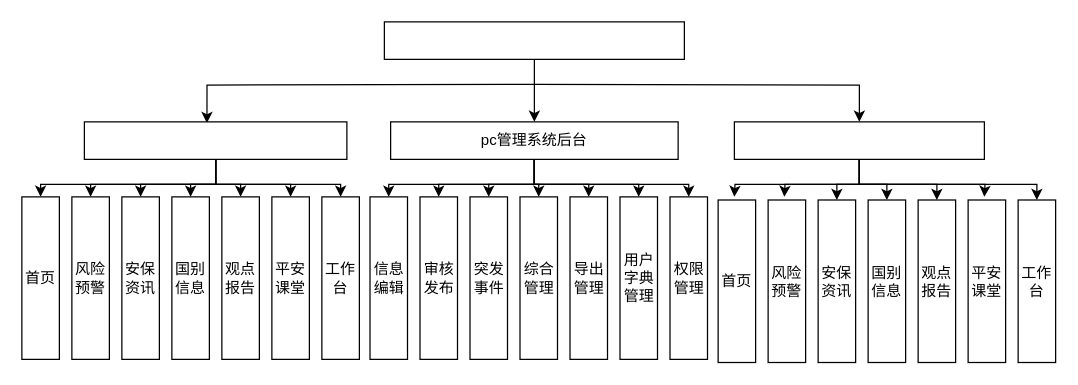
The diagram is 1078 pixels wide and 385 high, and some of its shapes have lost their labels. Here are the shapes that lost their labels. From the top down, the box of each, then its label:
(383, 21, 684, 59): 平安丝路网
(83, 121, 347, 159): pc门户
(733, 121, 984, 159): app服务
